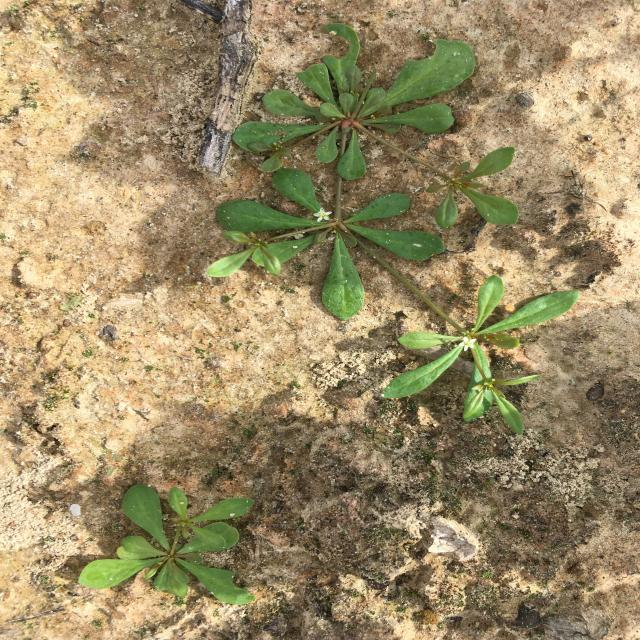Carpetweed: (206, 23, 580, 435), (78, 484, 257, 605)
